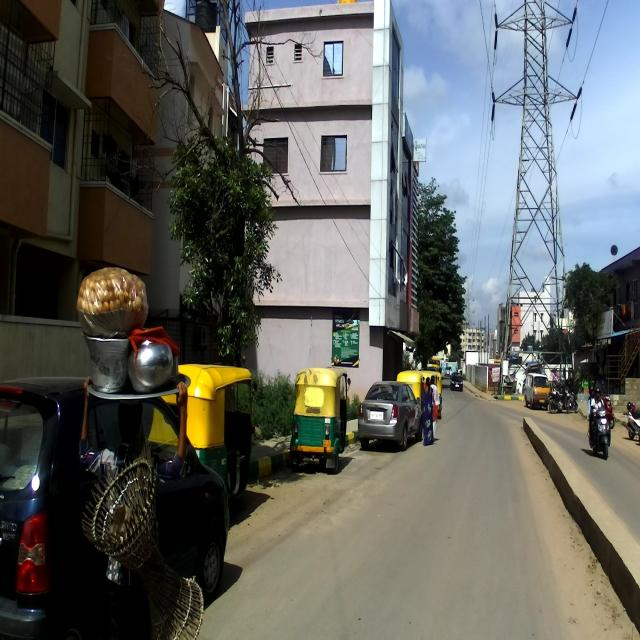autorickshaw: (167, 362, 257, 507), (289, 365, 350, 475)
car: (0, 374, 229, 638)
